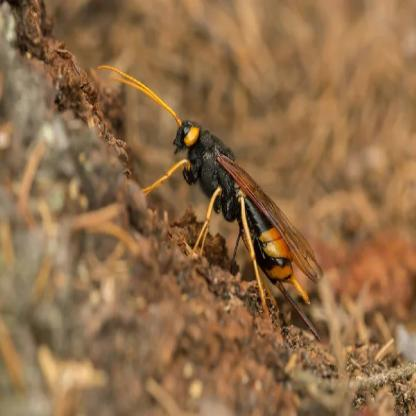sawfly: (92, 51, 324, 337)
